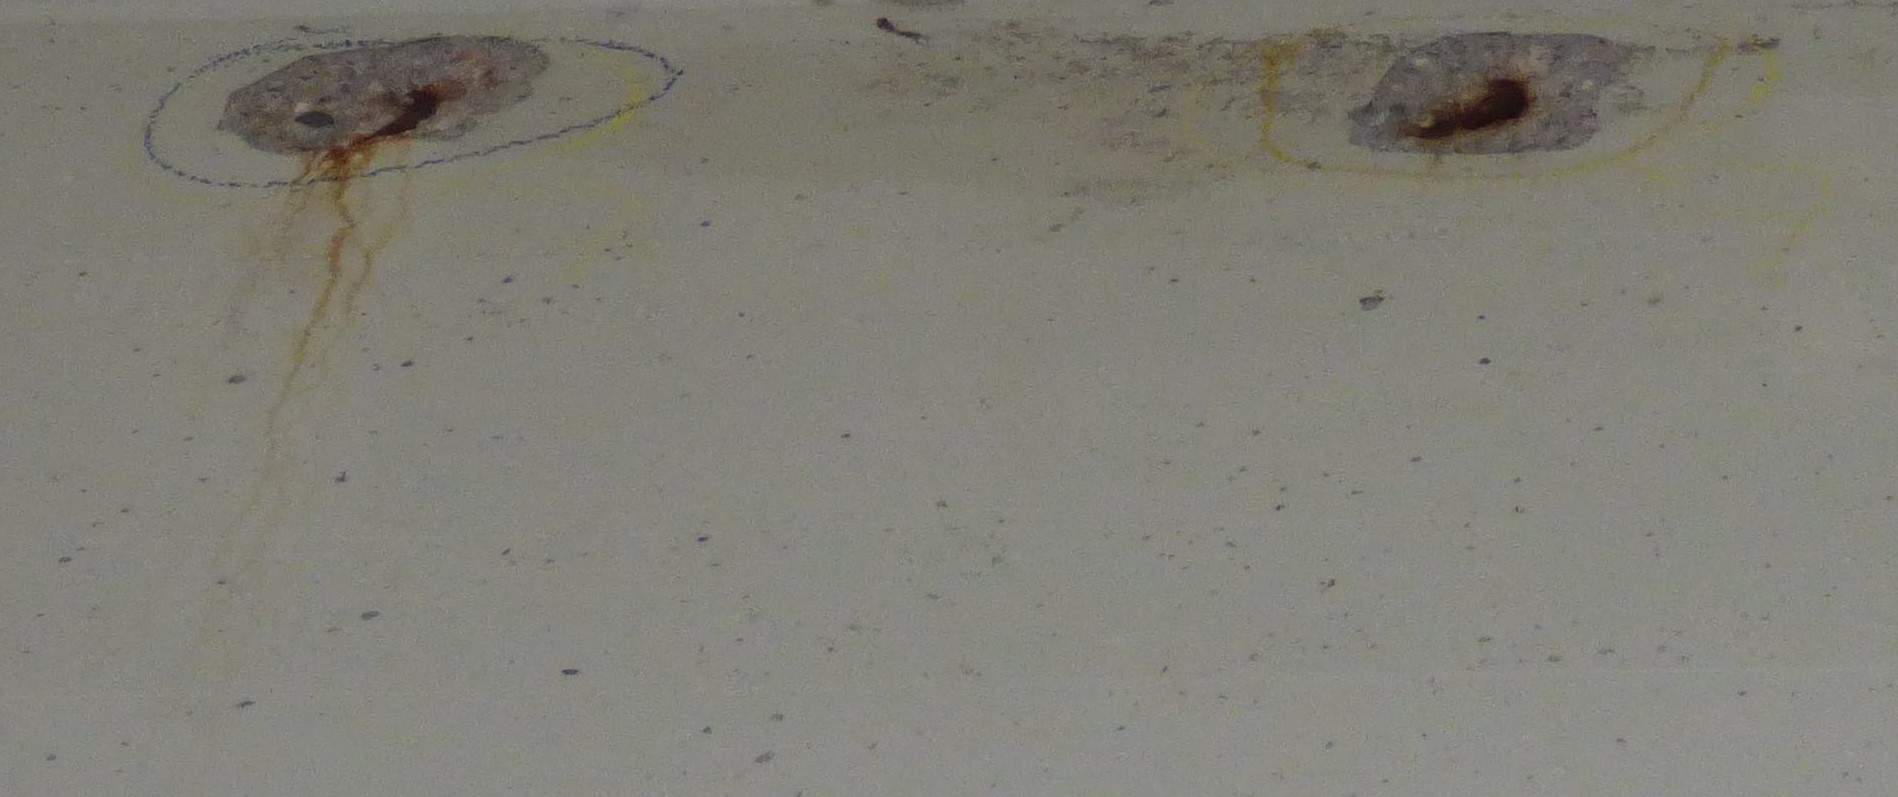Exposed reinforcement: (1411, 79, 1528, 139), (364, 88, 437, 142)
Spalling: (212, 35, 553, 157), (1345, 31, 1643, 156)
